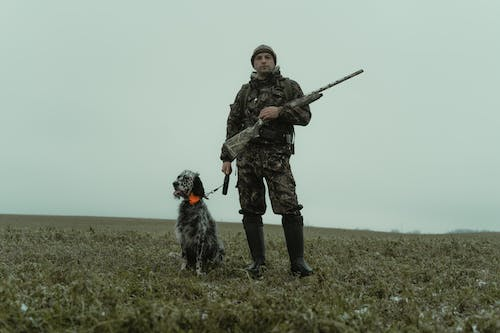gun: (221, 67, 365, 160)
